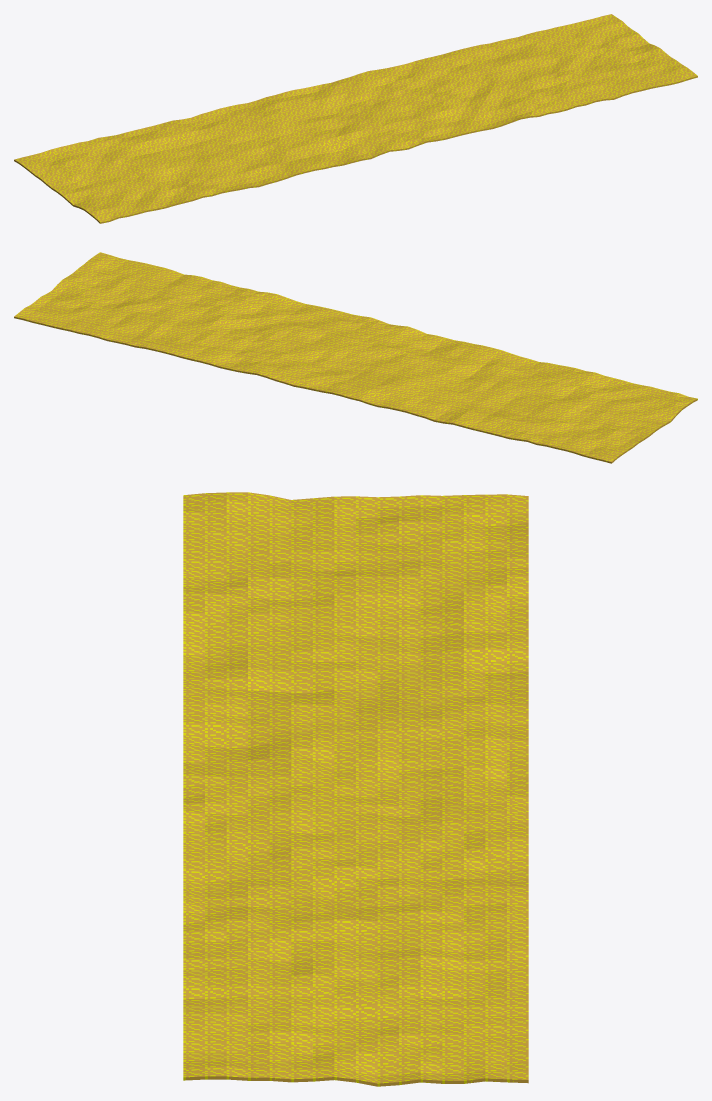
The model's file is seafloor.obj.
3 views of the same model, one above another, from view 1: azimuth 30°, elevation 25°; view 2: azimuth 150°, elevation 25°; view 3: azimuth 270°, elevation 25° (orthographic). The views are drawn at different scales.
Parts seen in each view (by area): view 1: seafloor; view 2: seafloor; view 3: seafloor.
Part boxes in pixels (x1,y1,x2,y2): seafloor: [14, 14, 697, 223]; seafloor: [14, 252, 697, 463]; seafloor: [183, 492, 528, 1086].
Bounding box in the file's own units: 400 × 4.91 × 100.
1 material, 1 textured.
